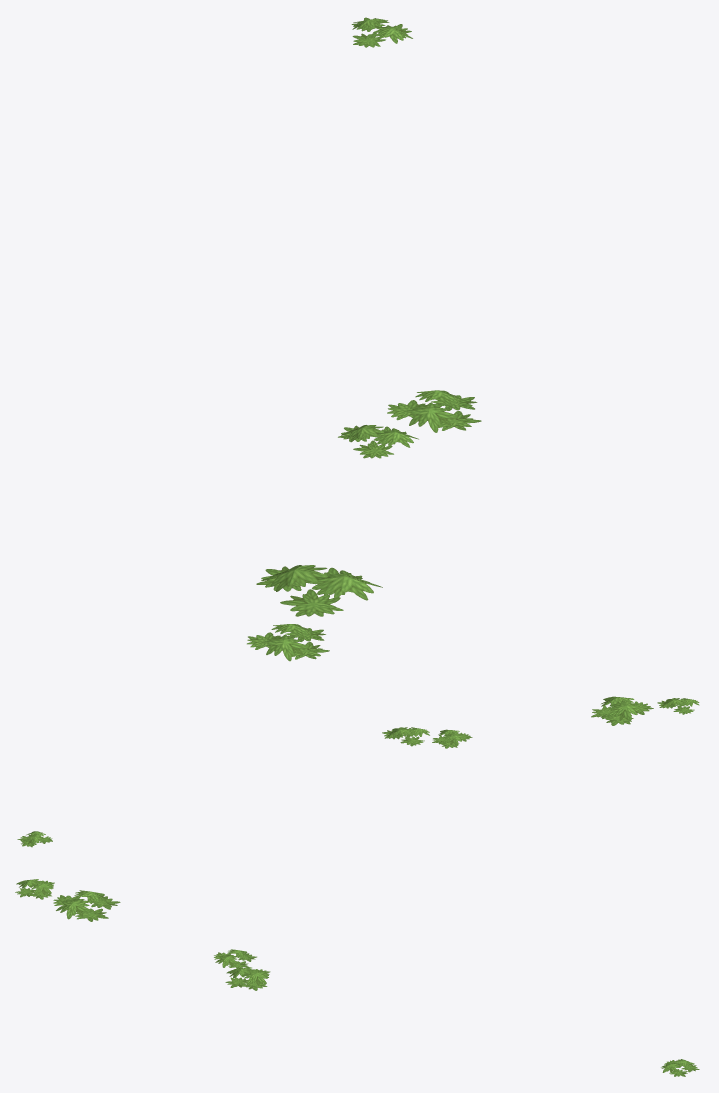
Rendered from Area_13_51.fbx.
3 views of the same model, one above another, from view 1: azimuth 30°, elevation 25°; view 2: azimuth 150°, elevation 25°; view 3: azimuth 270°, elevation 25° (orthographic). The views are drawn at different scales.
Parts seen in each view (by area): view 1: Area_13_51; view 2: Area_13_51; view 3: Area_13_51.
Part boxes in pixels (left/top/right/bottom): Area_13_51: left=247, top=17, right=481, bottom=661; Area_13_51: left=17, top=696, right=699, bottom=847; Area_13_51: left=15, top=879, right=699, bottom=1076.
Size of the model in its own units: 1843 by 58.96 by 2690.
